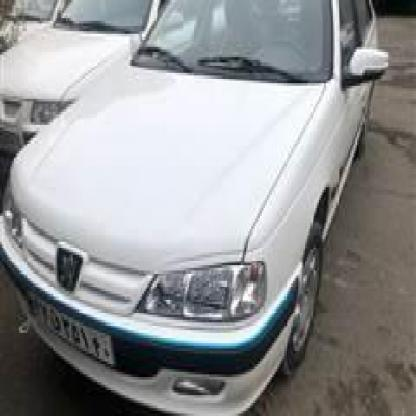Car: (0, 0, 387, 416), (0, 0, 163, 133)
